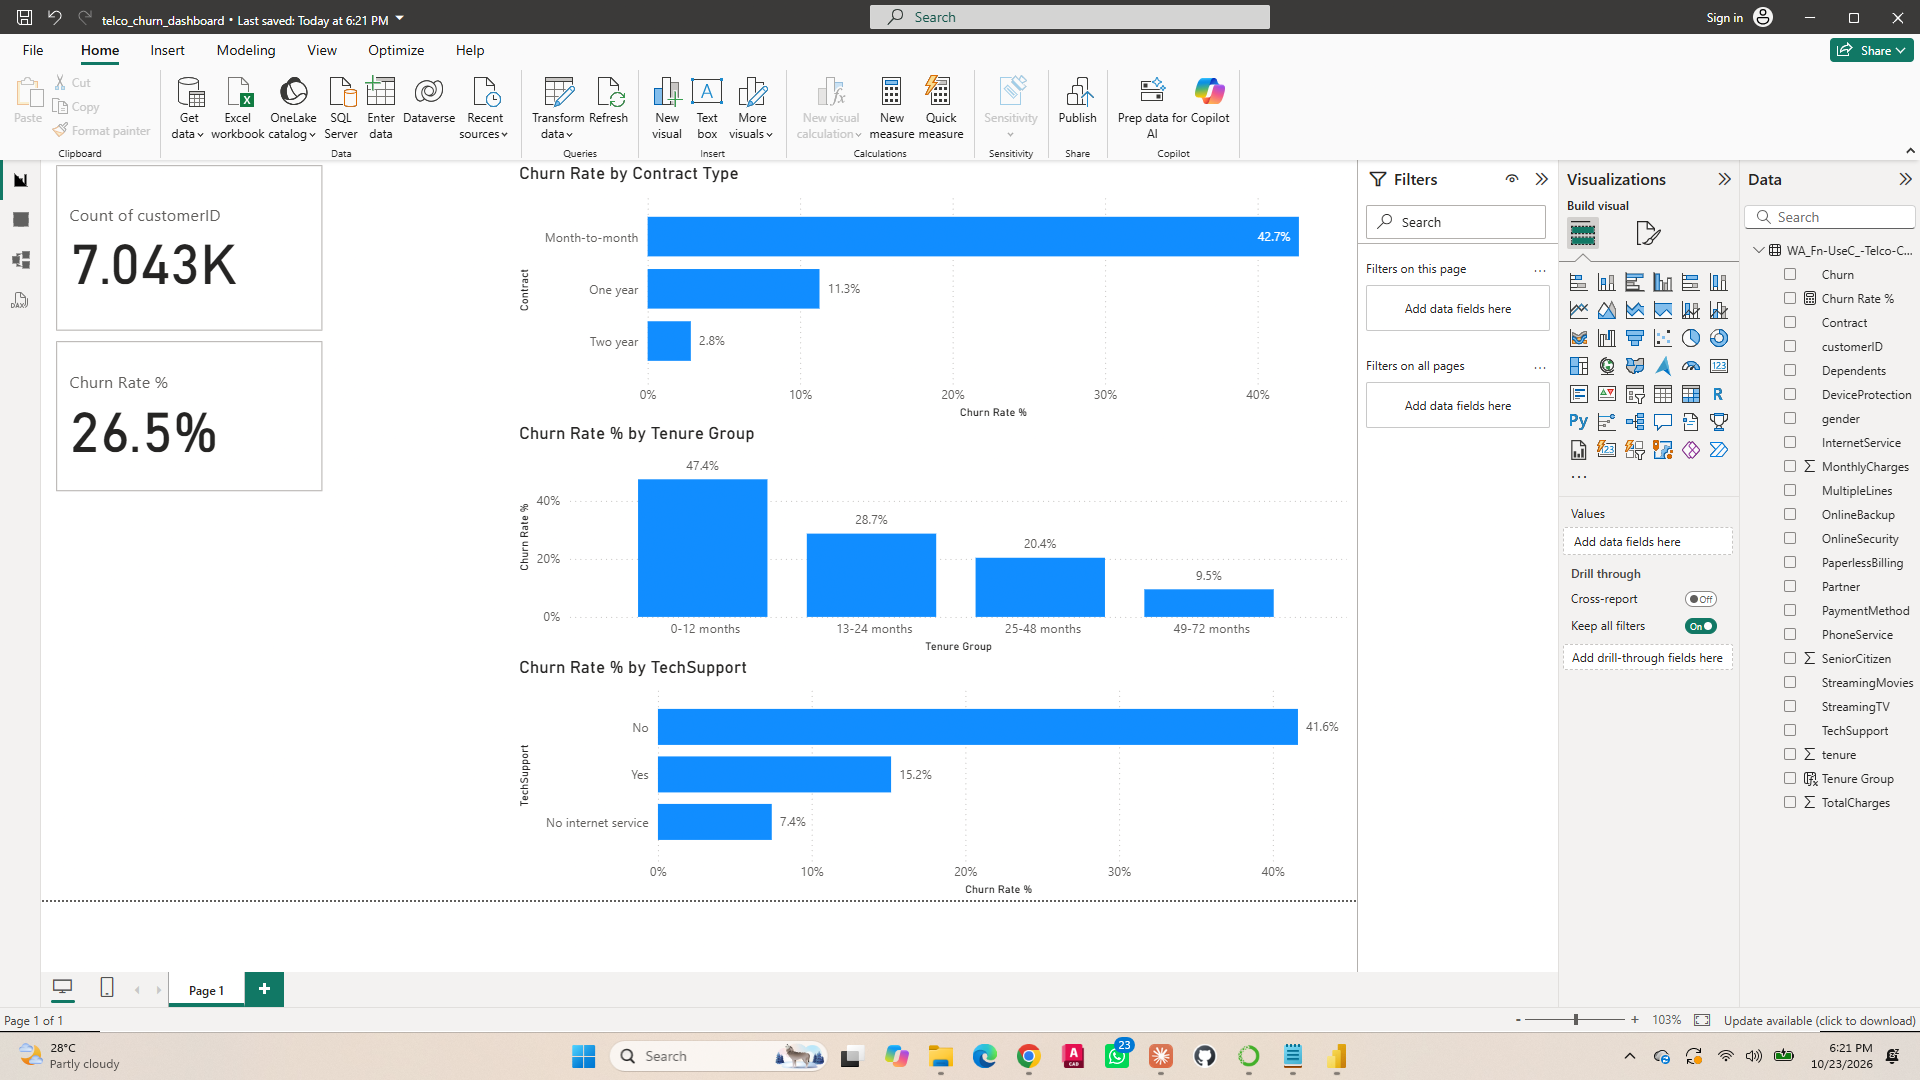

Layout of this report page (visuals, bound fields, positions):
{"tool":"powerbi","page":{"name":"Page 1","canvas":[1280,720],"ordinal":0},"visuals":[{"type":"cardVisual","fields":{"Data":["CountNonNull(WA_Fn-UseC_-Telco-Customer-Churn.customerID)"]},"box":[9.7,0,269.4,171.2],"z":0},{"type":"cardVisual","fields":{"Data":["WA_Fn-UseC_-Telco-Customer-Churn.Churn Rate %"]},"box":[9.7,171.2,269.4,156.6],"z":1},{"type":"clusteredBarChart","title":"Churn Rate by Contract Type","fields":{"Category":["WA_Fn-UseC_-Telco-Customer-Churn.Contract"],"Y":["WA_Fn-UseC_-Telco-Customer-Churn.Churn Rate %"]},"box":[460.1,2.9,819.9,252.9],"z":2},{"type":"clusteredColumnChart","fields":{"Category":["WA_Fn-UseC_-Telco-Customer-Churn.Tenure Group"],"Y":["WA_Fn-UseC_-Telco-Customer-Churn.Churn Rate %"]},"box":[460.1,255.8,815.1,227.6],"z":3},{"type":"clusteredBarChart","fields":{"Category":["WA_Fn-UseC_-Telco-Customer-Churn.TechSupport"],"Y":["WA_Fn-UseC_-Telco-Customer-Churn.Churn Rate %"]},"box":[460.1,483.4,819.9,236.4],"z":4}]}

Visuals, with their boxes on the page's 1280x720 design canvas (x1, y1, x2, y2). These are canvas units, not pixel positions in the 1920x1080 screenshot, which may show the page scaled, cropped or inside an application window:
cardVisual - CountNonNull(WA_Fn-UseC_-Telco-Customer-Churn.customerID): rect(10, 0, 279, 171)
cardVisual - WA_Fn-UseC_-Telco-Customer-Churn.Churn Rate %: rect(10, 171, 279, 328)
"Churn Rate by Contract Type" clusteredBarChart: rect(460, 3, 1280, 256)
clusteredColumnChart - WA_Fn-UseC_-Telco-Customer-Churn.Tenure Group x WA_Fn-UseC_-Telco-Customer-Churn.Churn Rate %: rect(460, 256, 1275, 483)
clusteredBarChart - WA_Fn-UseC_-Telco-Customer-Churn.TechSupport x WA_Fn-UseC_-Telco-Customer-Churn.Churn Rate %: rect(460, 483, 1280, 720)
